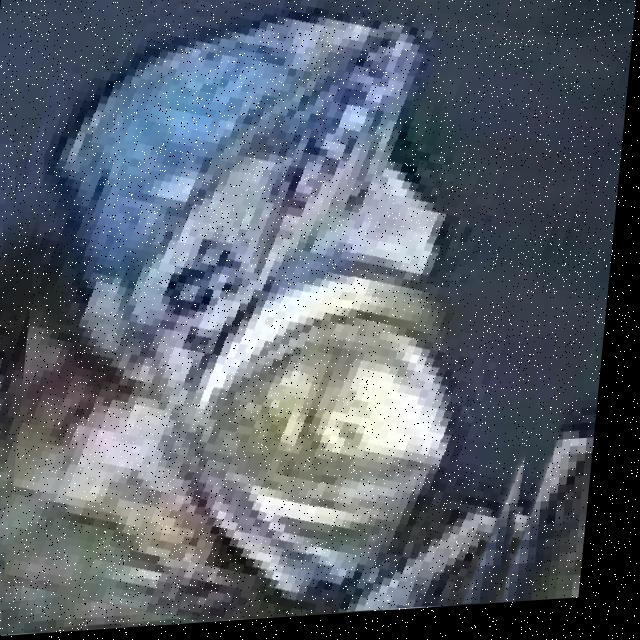litter: (41, 0, 539, 622)
